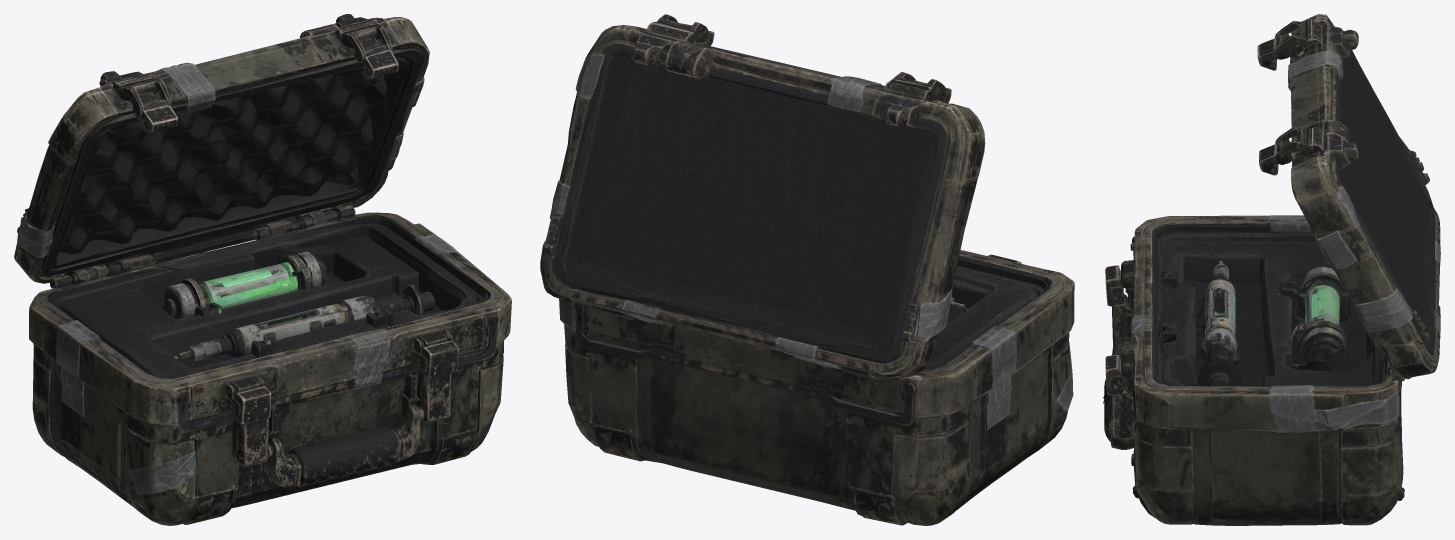
File: health.glb
3 views of the same model, side by side, from view 1: azimuth 30°, elevation 25°; view 2: azimuth 150°, elevation 25°; view 3: azimuth 270°, elevation 25° (orthographic). The views are drawn at different scales.
Parts seen in each view (by area): view 1: output_unwrapped; view 2: output_unwrapped; view 3: output_unwrapped.
Part boxes in pixels (box(x1,y1,x2,y2)): output_unwrapped: box(14, 14, 511, 525); output_unwrapped: box(540, 14, 1074, 525); output_unwrapped: box(1103, 14, 1440, 525).
Bounding box in the file's own units: 1.91 × 1.82 × 1.49.
Materials: 1 (1 with a texture image).
